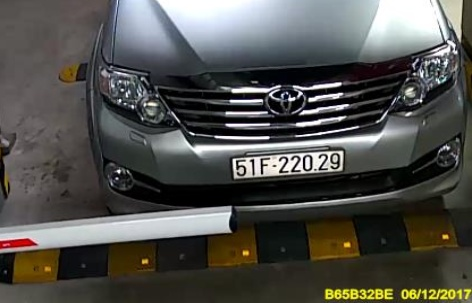plate: (229, 148, 341, 183)
